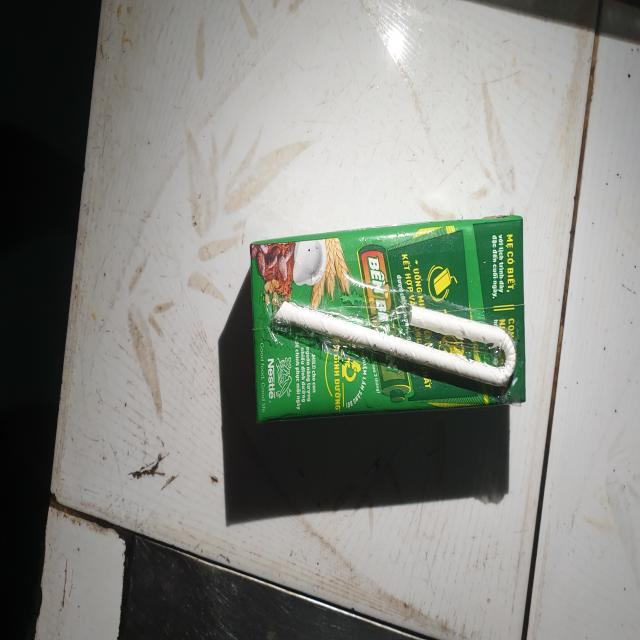Milo: (254, 214, 528, 427)
